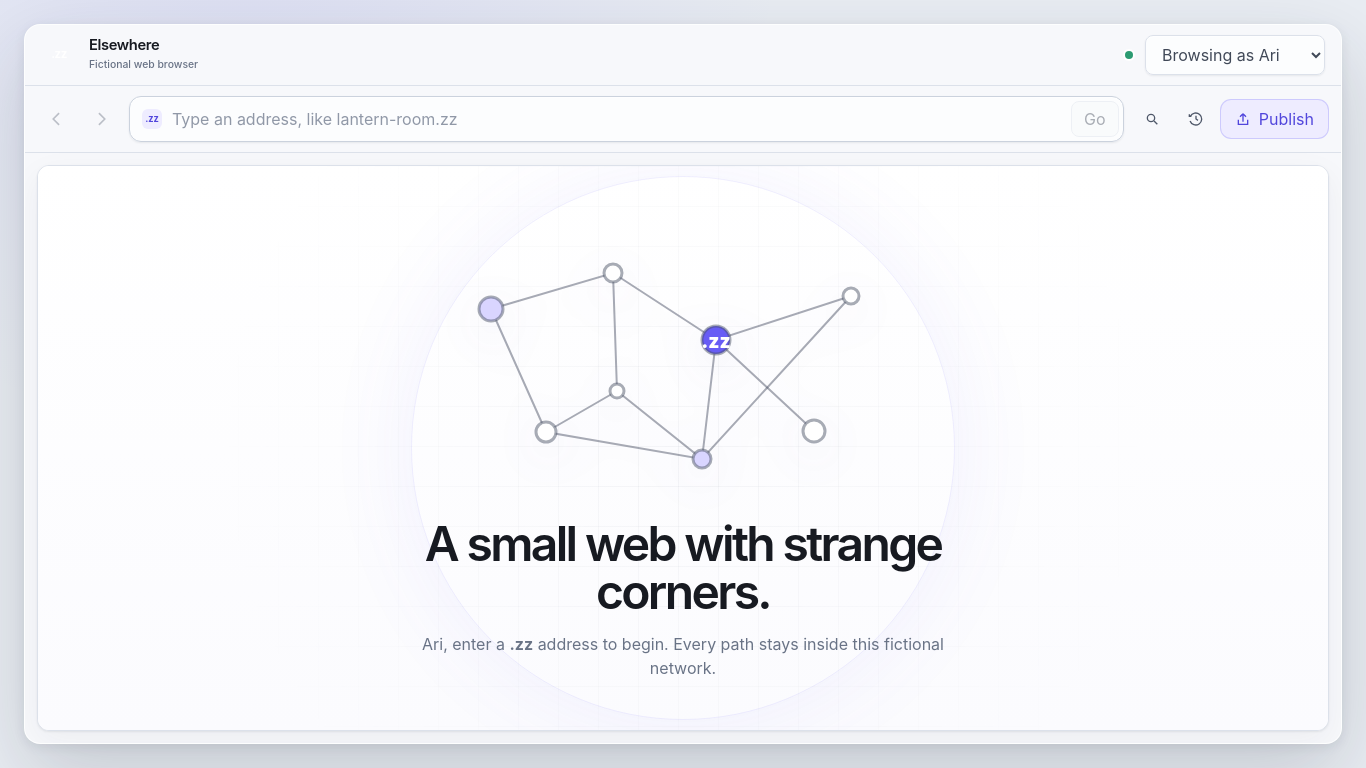
Test: BrowserShell › shows a successful search with no results
The width and height of the screenshot is (1366, 768).
Expected: the heading "A small web with strange corners." is shown, top-left (425, 514), bottom-right (941, 621)
Click the button named "Search" at (1152, 119), box top-left (1132, 99), bottom-right (1172, 139)
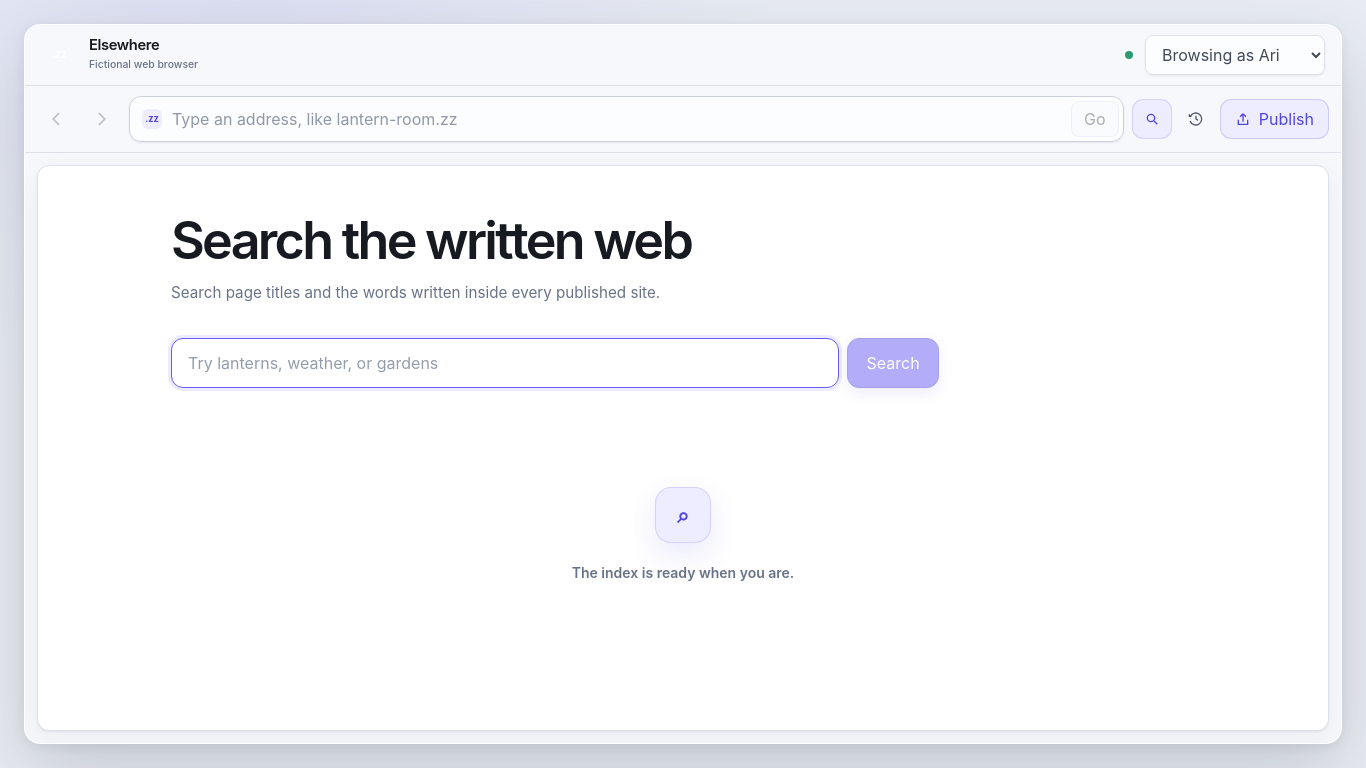
Type "impossible phrase" into the field named "Search query" at (505, 363), box top-left (171, 338), bottom-right (839, 388)
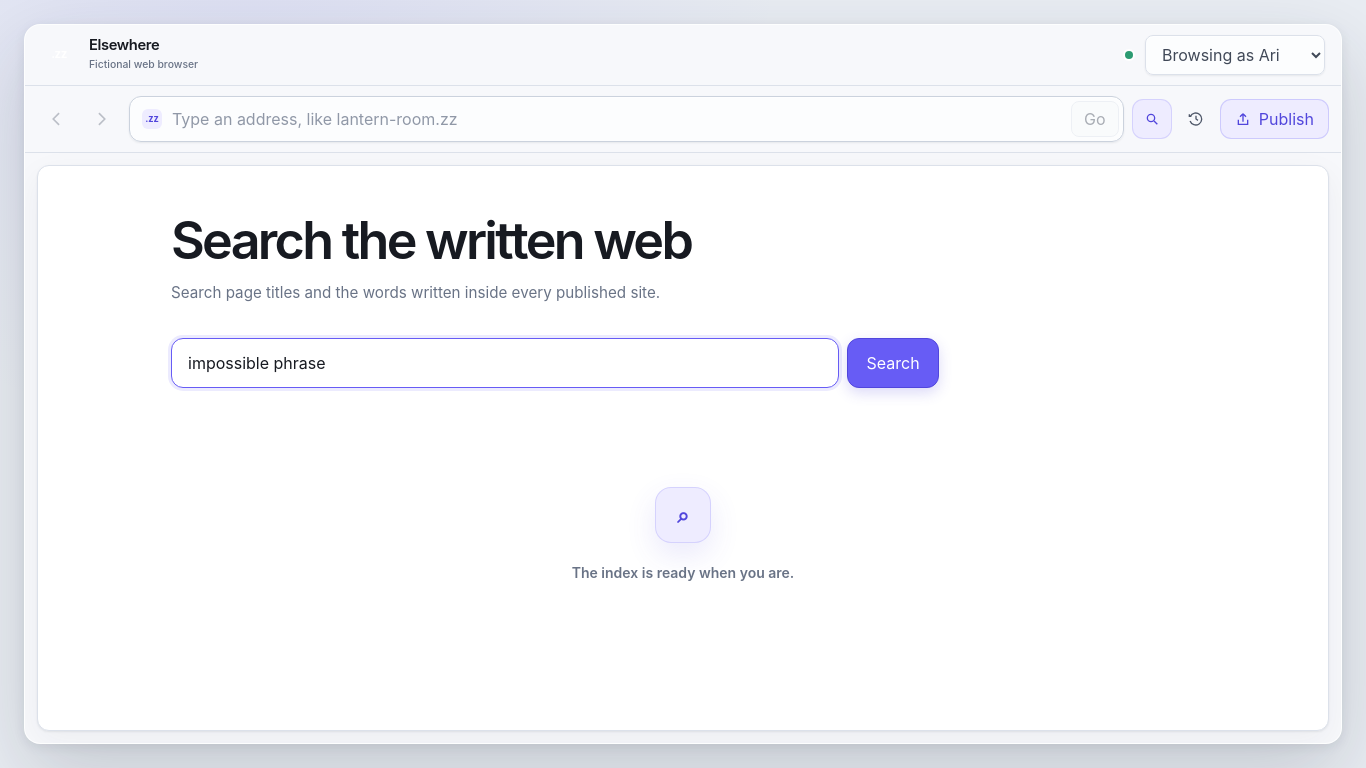
Click the button "Search" at (893, 363), box top-left (847, 338), bottom-right (939, 388)
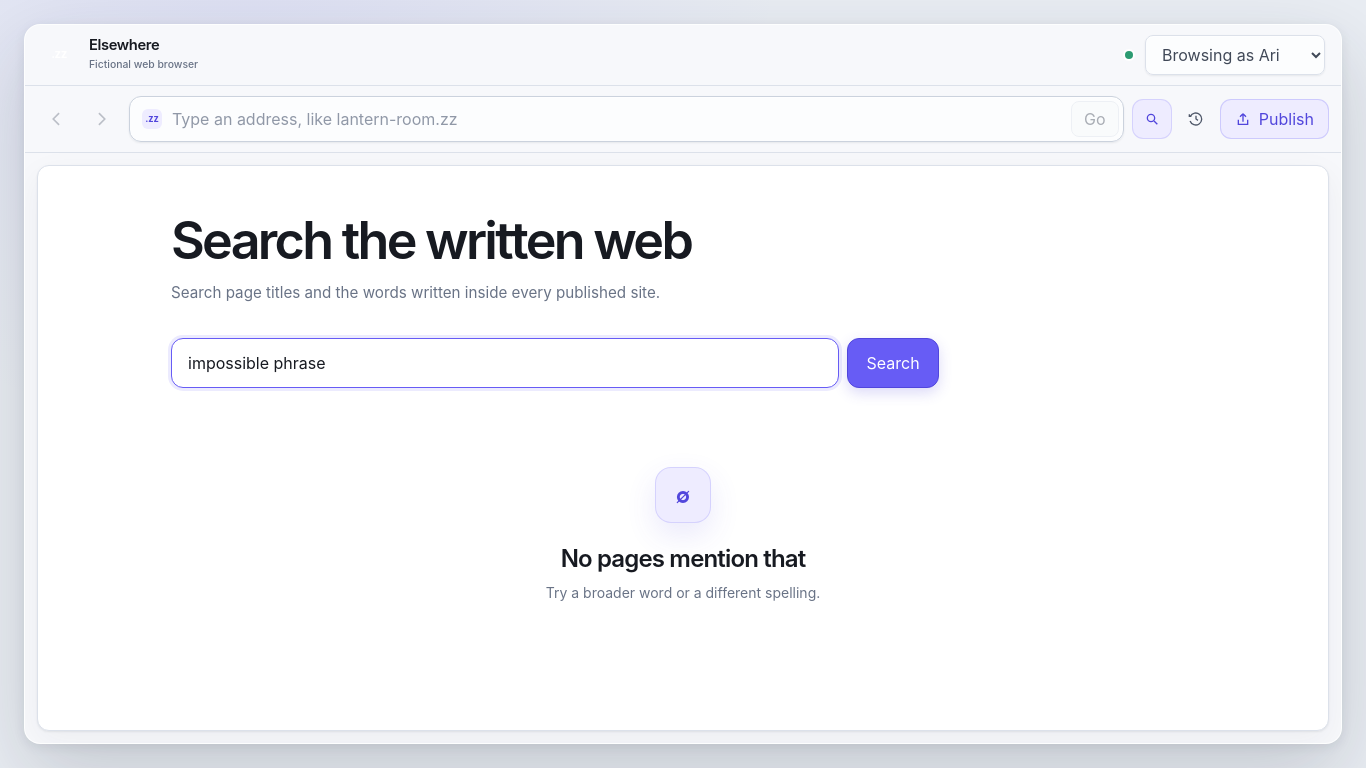
Now the heading "No pages mention that" is shown, box top-left (561, 544), bottom-right (805, 573)
